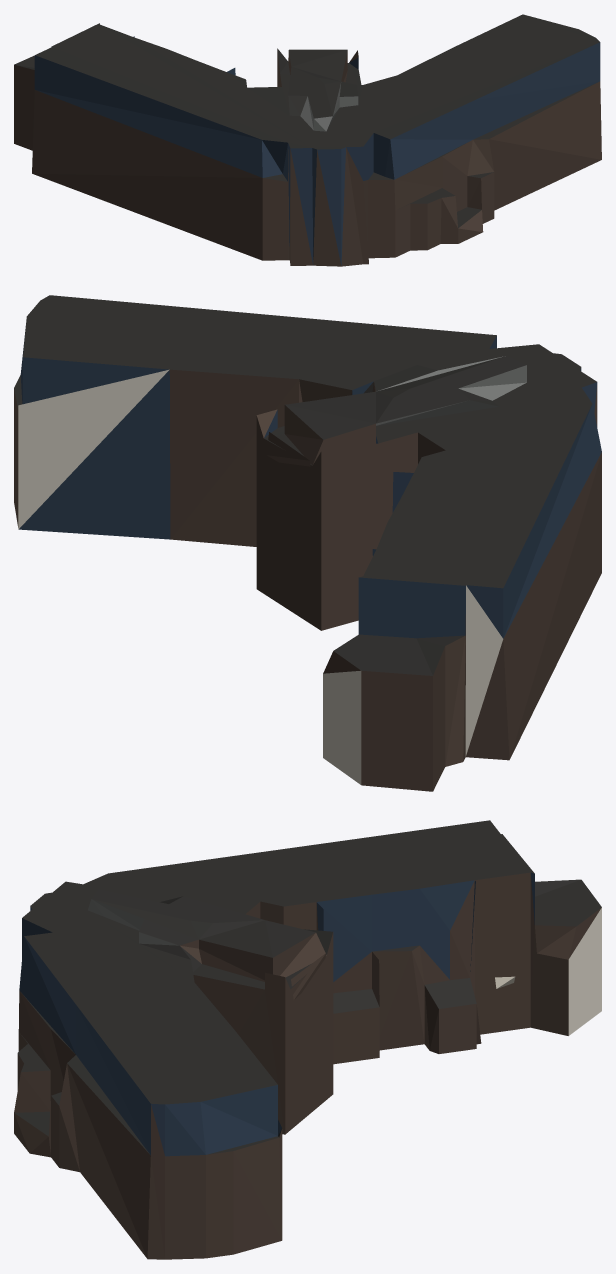
File: generator-mauritskade.lod2.glb
The picture shows the model from 3 angles, top to bottom: view 1: azimuth 30°, elevation 25°; view 2: azimuth 150°, elevation 25°; view 3: azimuth 270°, elevation 25°; orthographic projection. The views are drawn at different scales.
Parts seen in each view (by area): view 1: lod2; view 2: lod2; view 3: lod2.
Boxes of the visible parts, <box> form: lod2: <box>14,14,601,266</box>; lod2: <box>14,295,601,791</box>; lod2: <box>14,820,601,1259</box>.
Bounding box in the file's own units: 67.47 × 18.94 × 58.55.
